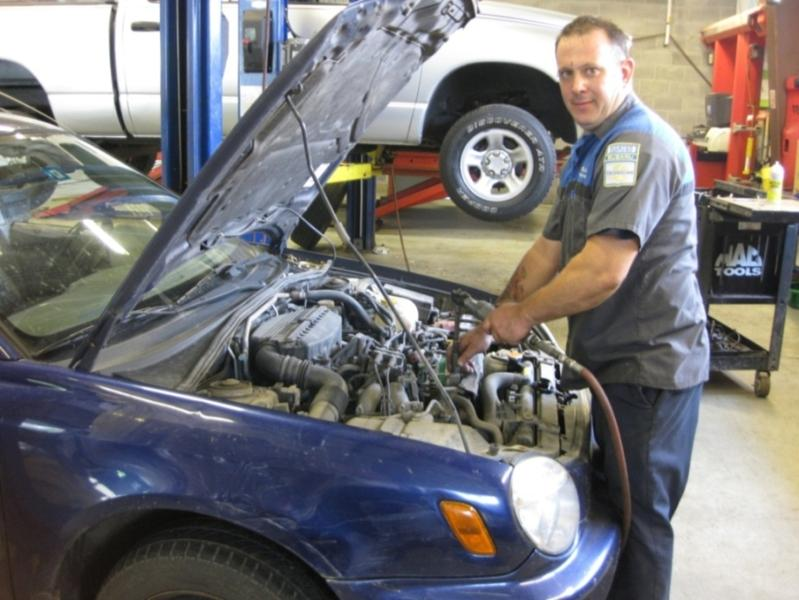person: (460, 15, 708, 596)
